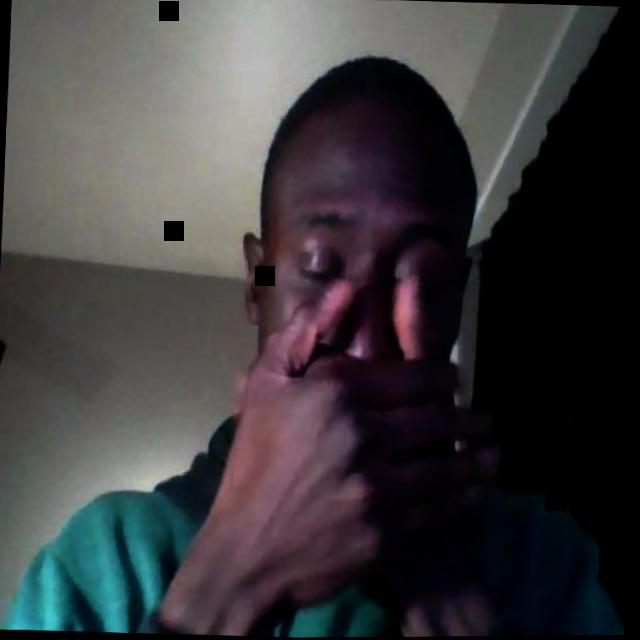NO-Mask: (254, 136, 480, 400)
